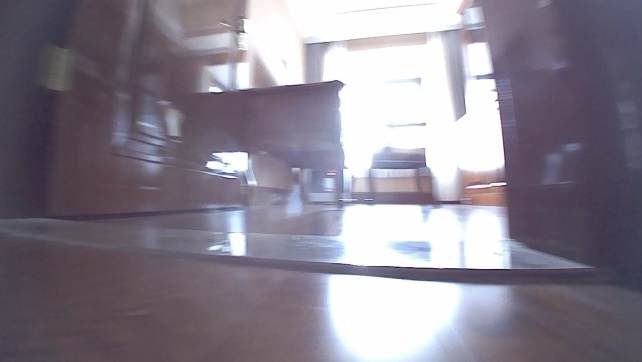door_anno: (0, 0, 255, 222)
